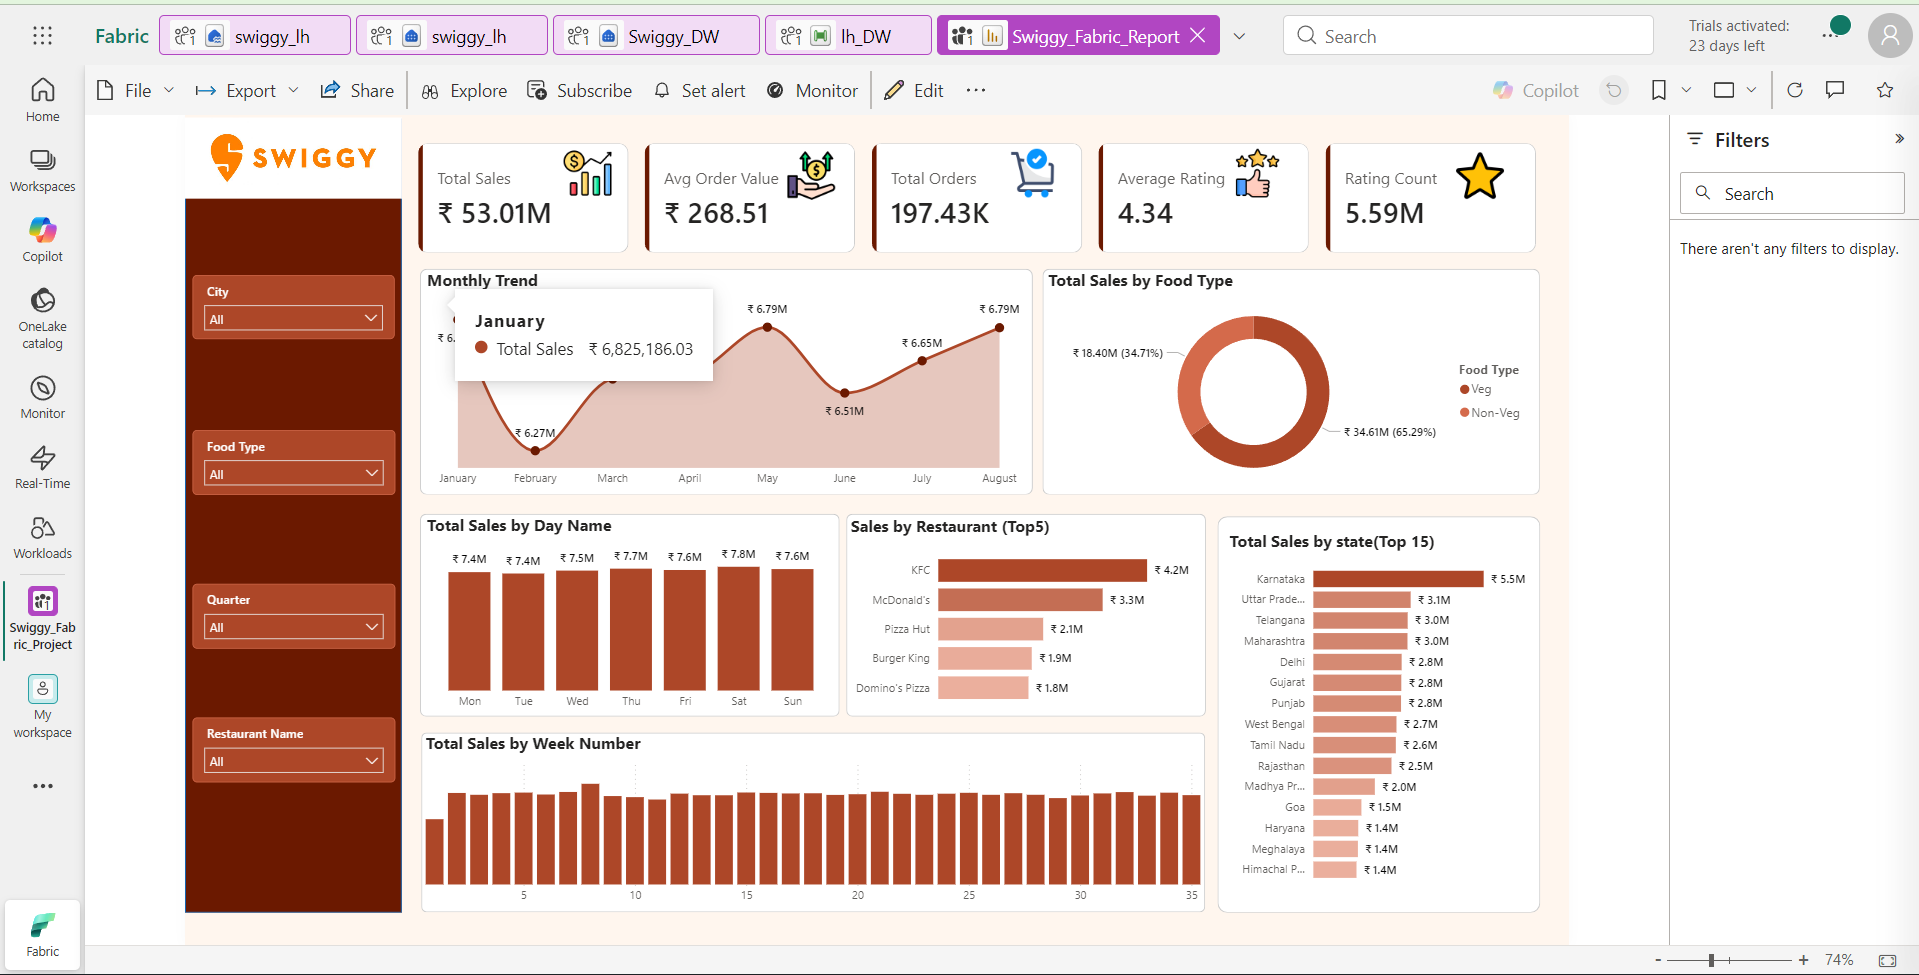

What the dashboard file says about the page in this screenshot:
{"tool":"powerbi","page":{"name":"Page 1","canvas":[1500,900],"ordinal":0},"visuals":[{"type":"shape","box":[0,0,235,865],"z":0},{"type":"cardVisual","fields":{"Data":["Measure Table.Total Sales","Measure Table.Average Order Value","Measure Table.Total Orders","Measure Table.Average Rating","Measure Table.Rating Count"]},"box":[235,11.8,1249.5,155.5],"z":1},{"type":"image","box":[399,37.2,76.1,52.4],"z":2},{"type":"image","box":[640.8,38.9,76.1,52.4],"z":3},{"type":"image","box":[880.9,37.2,76.1,52.4],"z":4},{"type":"image","box":[1124.3,37.2,76.1,52.4],"z":5},{"type":"image","box":[1366.1,38.9,76.1,52.4],"z":6},{"type":"shape","box":[255.3,167.4,664.5,245.2],"z":7},{"type":"areaChart","title":"Monthly Trend","fields":{"Category":["date.Month"],"Y":["Measure Table.Total Sales"]},"box":[257,167.4,664.5,245.2],"z":8},{"type":"shape","box":[929.9,167.4,539.3,245.2],"z":9},{"type":"donutChart","fields":{"Category":["dish.Food Type"],"Y":["Measure Table.Total Sales"]},"box":[931.6,167.4,539.3,245.2],"z":10},{"type":"shape","box":[255.3,432.8,455,220],"z":11},{"type":"shape","box":[716.6,432.5,390,220],"z":12},{"type":"clusteredColumnChart","fields":{"Category":["date.Day Name"],"Y":["Measure Table.Total Sales"]},"box":[257.2,432.5,453.7,221.9],"z":13},{"type":"shape","box":[256.7,670,850,195],"z":14},{"type":"clusteredBarChart","title":"Sales by Restaurant (Top5)","fields":{"Category":["resturant.restaurant_name"],"Y":["Measure Table.Total Sales"]},"box":[716.7,433.3,390,218.3],"z":15},{"type":"shape","box":[1120,435,350,430],"z":16},{"type":"clusteredBarChart","title":"Total Sales by state(Top 15)","fields":{"Category":["location.state"],"Y":["Measure Table.Total Sales"]},"box":[1128.3,450,331.7,391.7],"z":17},{"type":"columnChart","fields":{"Category":["date.Week Number"],"Y":["Measure Table.Total Sales"]},"box":[256.7,670,850,195],"z":18},{"type":"image","box":[0,3.3,235,88.3],"z":19},{"type":"slicer","fields":{"Values":["location.city"]},"box":[8.5,173.8,219.1,69.3],"z":20},{"type":"slicer","fields":{"Values":["dish.Food Type"]},"box":[8.3,341.7,220,70],"z":21},{"type":"slicer","fields":{"Values":["date.Quarter"]},"box":[8.3,508.3,220,70],"z":22},{"type":"slicer","fields":{"Values":["resturant.restaurant_name"]},"box":[8.3,653.3,220,70],"z":23}]}

Visuals, with their boxes on the page's 1500x900 design canvas (x1, y1, x2, y2). These are canvas units, not pixel positions in the 1919x975 screenshot, which may show the page scaled, cropped or inside an application window:
shape: bbox(0, 0, 235, 865)
cardVisual - Measure Table.Total Sales x Measure Table.Average Order Value: bbox(235, 12, 1484, 167)
image: bbox(399, 37, 475, 90)
image: bbox(641, 39, 717, 91)
image: bbox(881, 37, 957, 90)
image: bbox(1124, 37, 1200, 90)
image: bbox(1366, 39, 1442, 91)
shape: bbox(255, 167, 920, 413)
"Monthly Trend" areaChart: bbox(257, 167, 922, 413)
shape: bbox(930, 167, 1469, 413)
donutChart - dish.Food Type x Measure Table.Total Sales: bbox(932, 167, 1471, 413)
shape: bbox(255, 433, 710, 653)
shape: bbox(717, 432, 1107, 652)
clusteredColumnChart - date.Day Name x Measure Table.Total Sales: bbox(257, 432, 711, 654)
shape: bbox(257, 670, 1107, 865)
"Sales by Restaurant (Top5)" clusteredBarChart: bbox(717, 433, 1107, 652)
shape: bbox(1120, 435, 1470, 865)
"Total Sales by state(Top 15)" clusteredBarChart: bbox(1128, 450, 1460, 842)
columnChart - date.Week Number x Measure Table.Total Sales: bbox(257, 670, 1107, 865)
image: bbox(0, 3, 235, 92)
slicer - location.city: bbox(8, 174, 228, 243)
slicer - dish.Food Type: bbox(8, 342, 228, 412)
slicer - date.Quarter: bbox(8, 508, 228, 578)
slicer - resturant.restaurant_name: bbox(8, 653, 228, 723)
